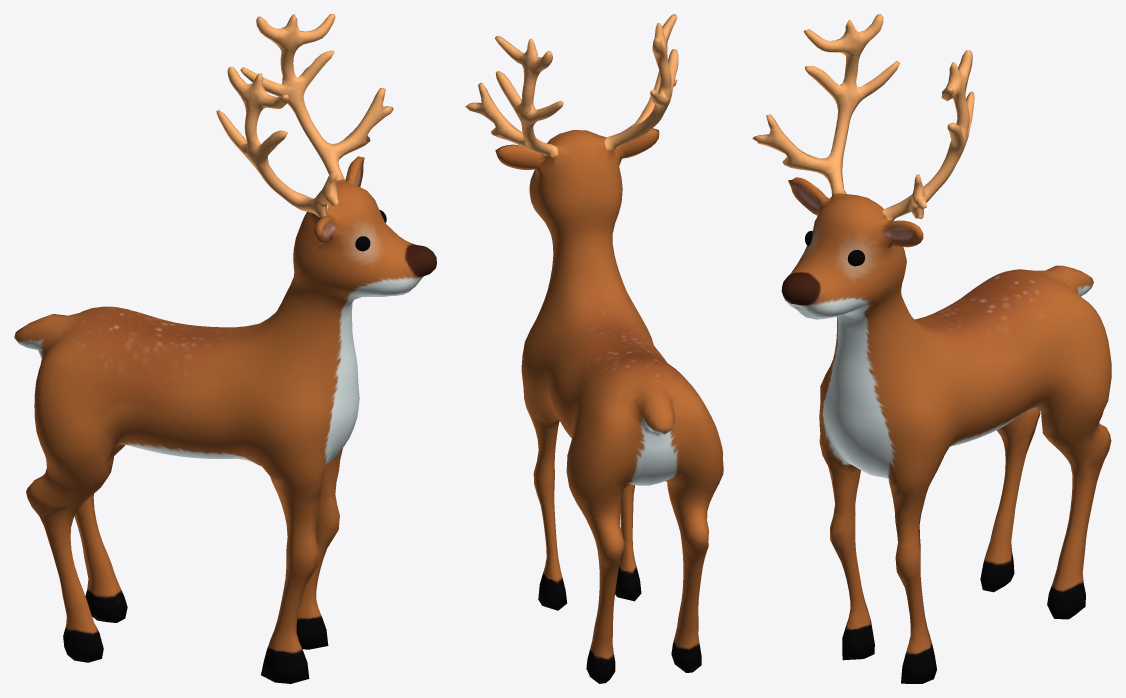
File: reindeer.glb
3 views of the same model, side by side, from view 1: azimuth 30°, elevation 25°; view 2: azimuth 150°, elevation 25°; view 3: azimuth 270°, elevation 25° (orthographic). The views are drawn at different scales.
Parts seen in each view (by area): view 1: reno_rtpo2.001; view 2: reno_rtpo2.001; view 3: reno_rtpo2.001.
Part boxes in pixels (box(x1,y1,x2,y2)): reno_rtpo2.001: box(14, 14, 436, 683); reno_rtpo2.001: box(465, 14, 723, 683); reno_rtpo2.001: box(752, 14, 1111, 683).
Size of the model in its own units: 5.41 by 10.15 by 5.34.
Materials: 1 (1 with a texture image).
